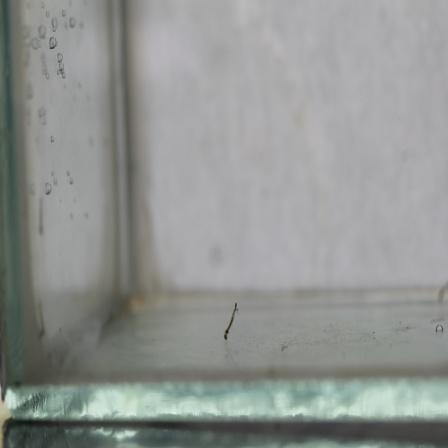Jentik-Nyamuk: (221, 299, 241, 343)
